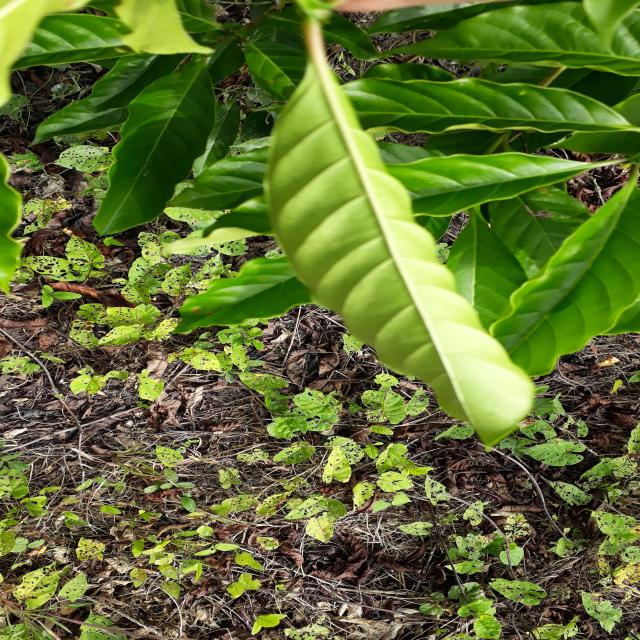Sanas: (263, 24, 538, 449)
